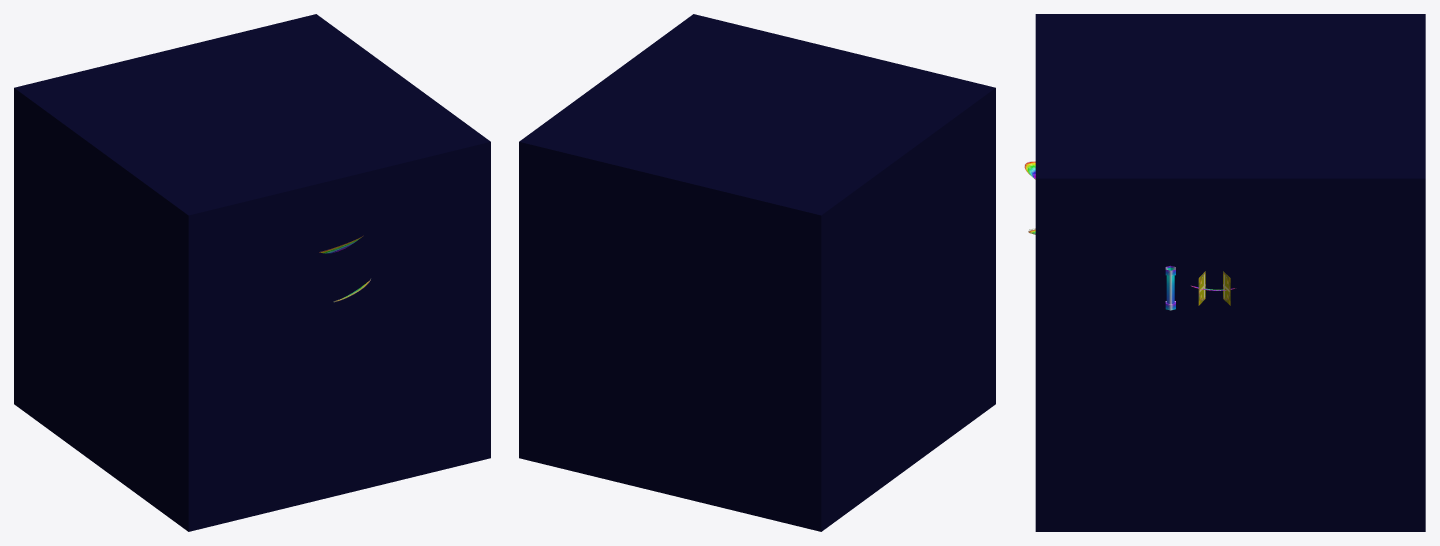
File: rainbowroad.fbx
3 renders of one model, left to right at view 1: azimuth 30°, elevation 25°; view 2: azimuth 150°, elevation 25°; view 3: azimuth 270°, elevation 25°, orthographic. The views are drawn at different scales.
Visible parts, largest first — view 1: polygon1.001; view 2: polygon1.001; view 3: polygon1.001.
Part boxes in pixels (<box>): polygon1.001: <box>14,14,490,531</box>; polygon1.001: <box>519,14,995,531</box>; polygon1.001: <box>1035,14,1425,531</box>.
Size of the model in its own units: 306 by 291 by 299.
Materials: 27 (27 with a texture image).
